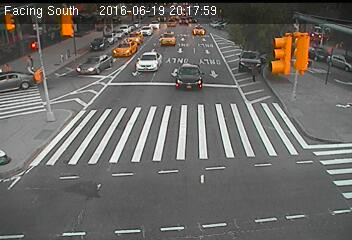neg: (2, 101, 24, 132), (307, 43, 329, 73), (210, 168, 231, 195), (106, 11, 126, 39), (19, 166, 39, 193), (269, 164, 287, 188), (221, 131, 239, 154), (3, 141, 21, 164), (144, 10, 161, 33), (290, 109, 307, 131), (70, 137, 87, 159), (206, 83, 222, 104), (172, 11, 188, 32), (34, 132, 50, 153), (165, 118, 180, 138), (94, 114, 109, 134), (77, 80, 92, 99), (163, 156, 178, 175), (115, 127, 130, 146), (114, 98, 128, 117), (140, 69, 154, 88), (122, 158, 136, 176), (185, 104, 198, 122), (223, 15, 236, 32), (70, 9, 82, 25), (36, 102, 47, 118), (203, 38, 214, 53), (176, 71, 187, 85), (179, 39, 189, 51), (247, 105, 256, 117), (76, 103, 84, 114)
pos: (245, 62, 261, 83), (22, 53, 37, 73), (1, 62, 10, 76)
